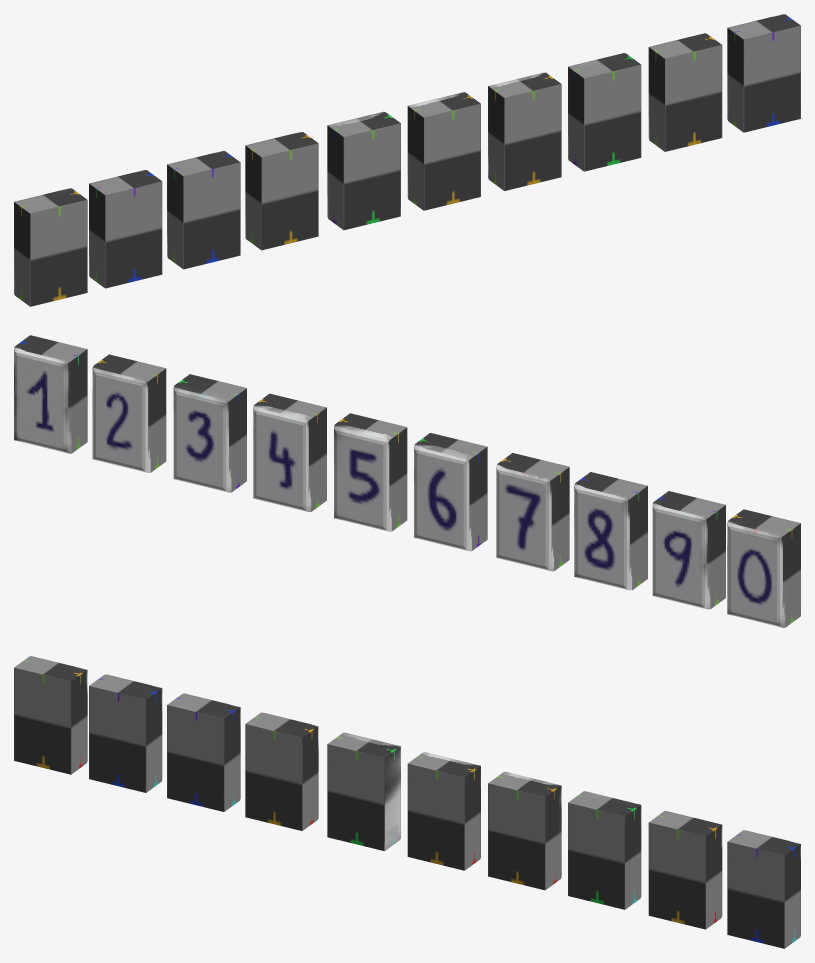
The model's file is buttons.gltf.
3 views of the same model, one above another, from view 1: azimuth 30°, elevation 25°; view 2: azimuth 150°, elevation 25°; view 3: azimuth 330°, elevation 25° (orthographic).
Parts seen in each view (by area): view 1: button_2-col, button_1-col, button_4-col, button_3-col, button_0-col, button_5-col, button_7-col, button_8-col, button_6-col, button_9-col; view 2: button_2-col, button_9-col, button_0-col, button_1-col, button_5-col, button_6-col, button_8-col, button_3-col, button_7-col, button_4-col; view 3: button_2-col, button_9-col, button_0-col, button_1-col, button_5-col, button_6-col, button_8-col, button_3-col, button_7-col, button_4-col.
Boxes of the visible parts, x1,y1,x2,y2 form: button_2-col: (648,33,722,151); button_1-col: (727,14,800,132); button_4-col: (488,72,561,190); button_3-col: (568,53,641,171); button_0-col: (14,188,87,306); button_5-col: (407,92,480,210); button_7-col: (245,132,318,250); button_8-col: (167,151,240,269); button_6-col: (327,111,400,230); button_9-col: (89,170,162,288); button_2-col: (92,354,166,472); button_9-col: (652,491,725,609); button_0-col: (727,509,800,627); button_1-col: (14,335,87,453); button_5-col: (334,413,407,531); button_6-col: (414,433,487,551); button_8-col: (574,472,647,590); button_3-col: (173,374,246,492); button_7-col: (496,453,569,571); button_4-col: (253,393,326,511); button_2-col: (648,811,722,929); button_9-col: (89,674,162,792); button_0-col: (14,656,87,774); button_1-col: (727,830,800,948); button_5-col: (407,752,480,870); button_6-col: (327,732,400,850); button_8-col: (167,693,240,811); button_3-col: (568,791,641,909); button_7-col: (245,712,318,830); button_4-col: (488,772,561,890).
Bounding box in the file's own units: 3.54 × 0.4085 × 0.1477.
Materials: 3 (3 with a texture image).
